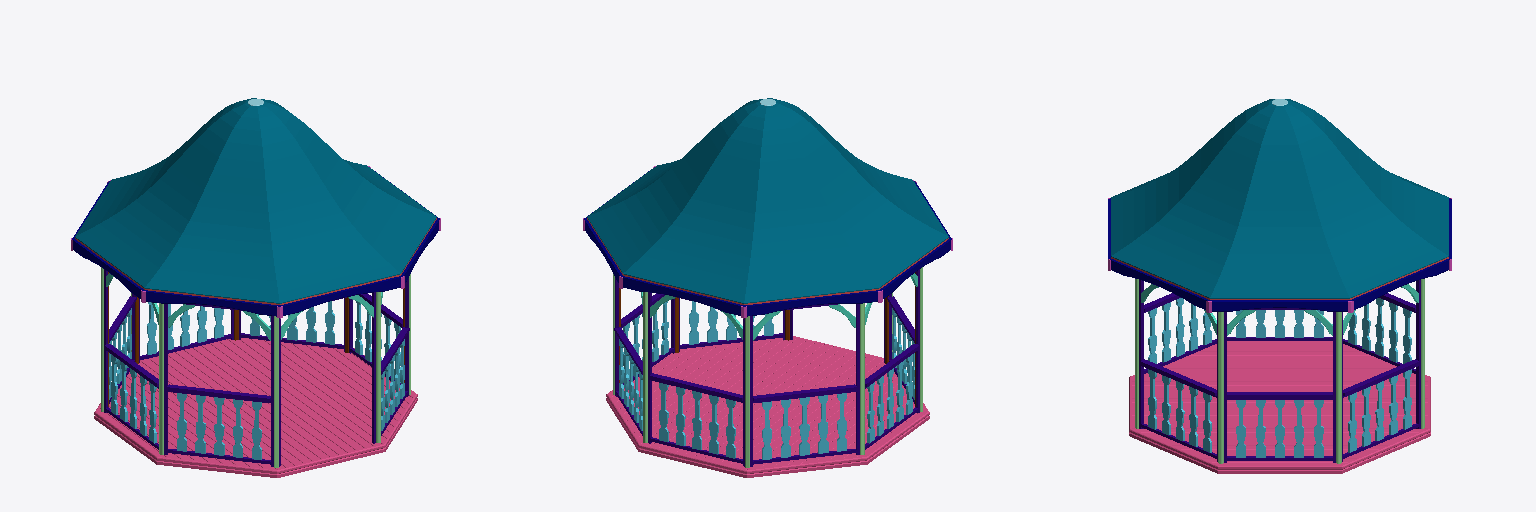
File: arbor.obj
3 views of the same model, side by side, from view 1: azimuth 30°, elevation 25°; view 2: azimuth 150°, elevation 25°; view 3: azimuth 270°, elevation 25° (orthographic).
Visible parts, largest first — view 1: Object18, Line47, Line40, Line46, Line41, Line01, Line45, Box531, Box43, Box528, Box01, Box522 (+8 smaller); view 2: Object18, Line45, Line44, Line46, Line43, Line01, Line47, Box525, Box140, Box41, Box528, Box40 (+8 smaller); view 3: Object18, Line42, Line41, Line43, Line40, Line44, Line01, Box519, Box516, Box522, Box38, Box37 (+7 smaller).
Boxes of the visible parts, x1,y1,x2,y2 form: Object18: [97, 338, 413, 469]; Line47: [145, 106, 279, 303]; Line40: [257, 105, 400, 303]; Line46: [75, 103, 250, 287]; Line41: [263, 102, 436, 272]; Line01: [94, 348, 417, 477]; Line45: [75, 100, 248, 236]; Box531: [164, 304, 273, 466]; Box43: [144, 290, 279, 316]; Box528: [104, 269, 158, 449]; Box01: [280, 276, 401, 315]; Box522: [381, 278, 409, 435]; Object18: [610, 337, 926, 469]; Line45: [744, 106, 878, 303]; Line44: [623, 105, 766, 303]; Line46: [773, 103, 948, 287]; Line43: [587, 102, 760, 272]; Line01: [606, 336, 929, 477]; Line47: [775, 100, 948, 236]; Box525: [750, 304, 859, 466]; Box140: [648, 292, 744, 466]; Box41: [744, 290, 879, 316]; Box528: [865, 269, 919, 449]; Box40: [622, 276, 743, 315]; Object18: [1132, 341, 1427, 464]; Line42: [1210, 106, 1349, 298]; Line41: [1111, 104, 1275, 297]; Line43: [1284, 104, 1448, 297]; Line40: [1111, 101, 1271, 255]; Line44: [1288, 101, 1448, 255]; Line01: [1129, 375, 1430, 473]; Box519: [1224, 308, 1335, 462]; Box516: [1342, 280, 1420, 461]; Box522: [1139, 280, 1217, 461]; Box38: [1210, 300, 1349, 311]; Box37: [1110, 259, 1209, 309].
Size of the model in its own units: 409 by 403 by 409.